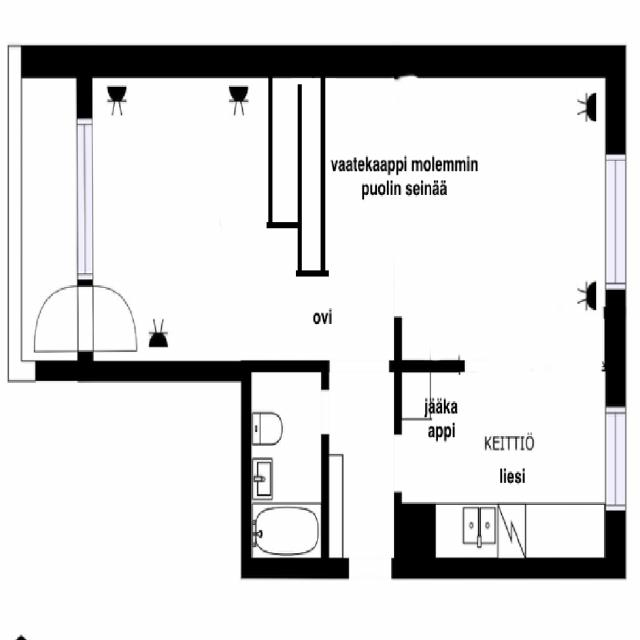door: (77, 286, 137, 352), (33, 286, 92, 352), (276, 289, 328, 356)
